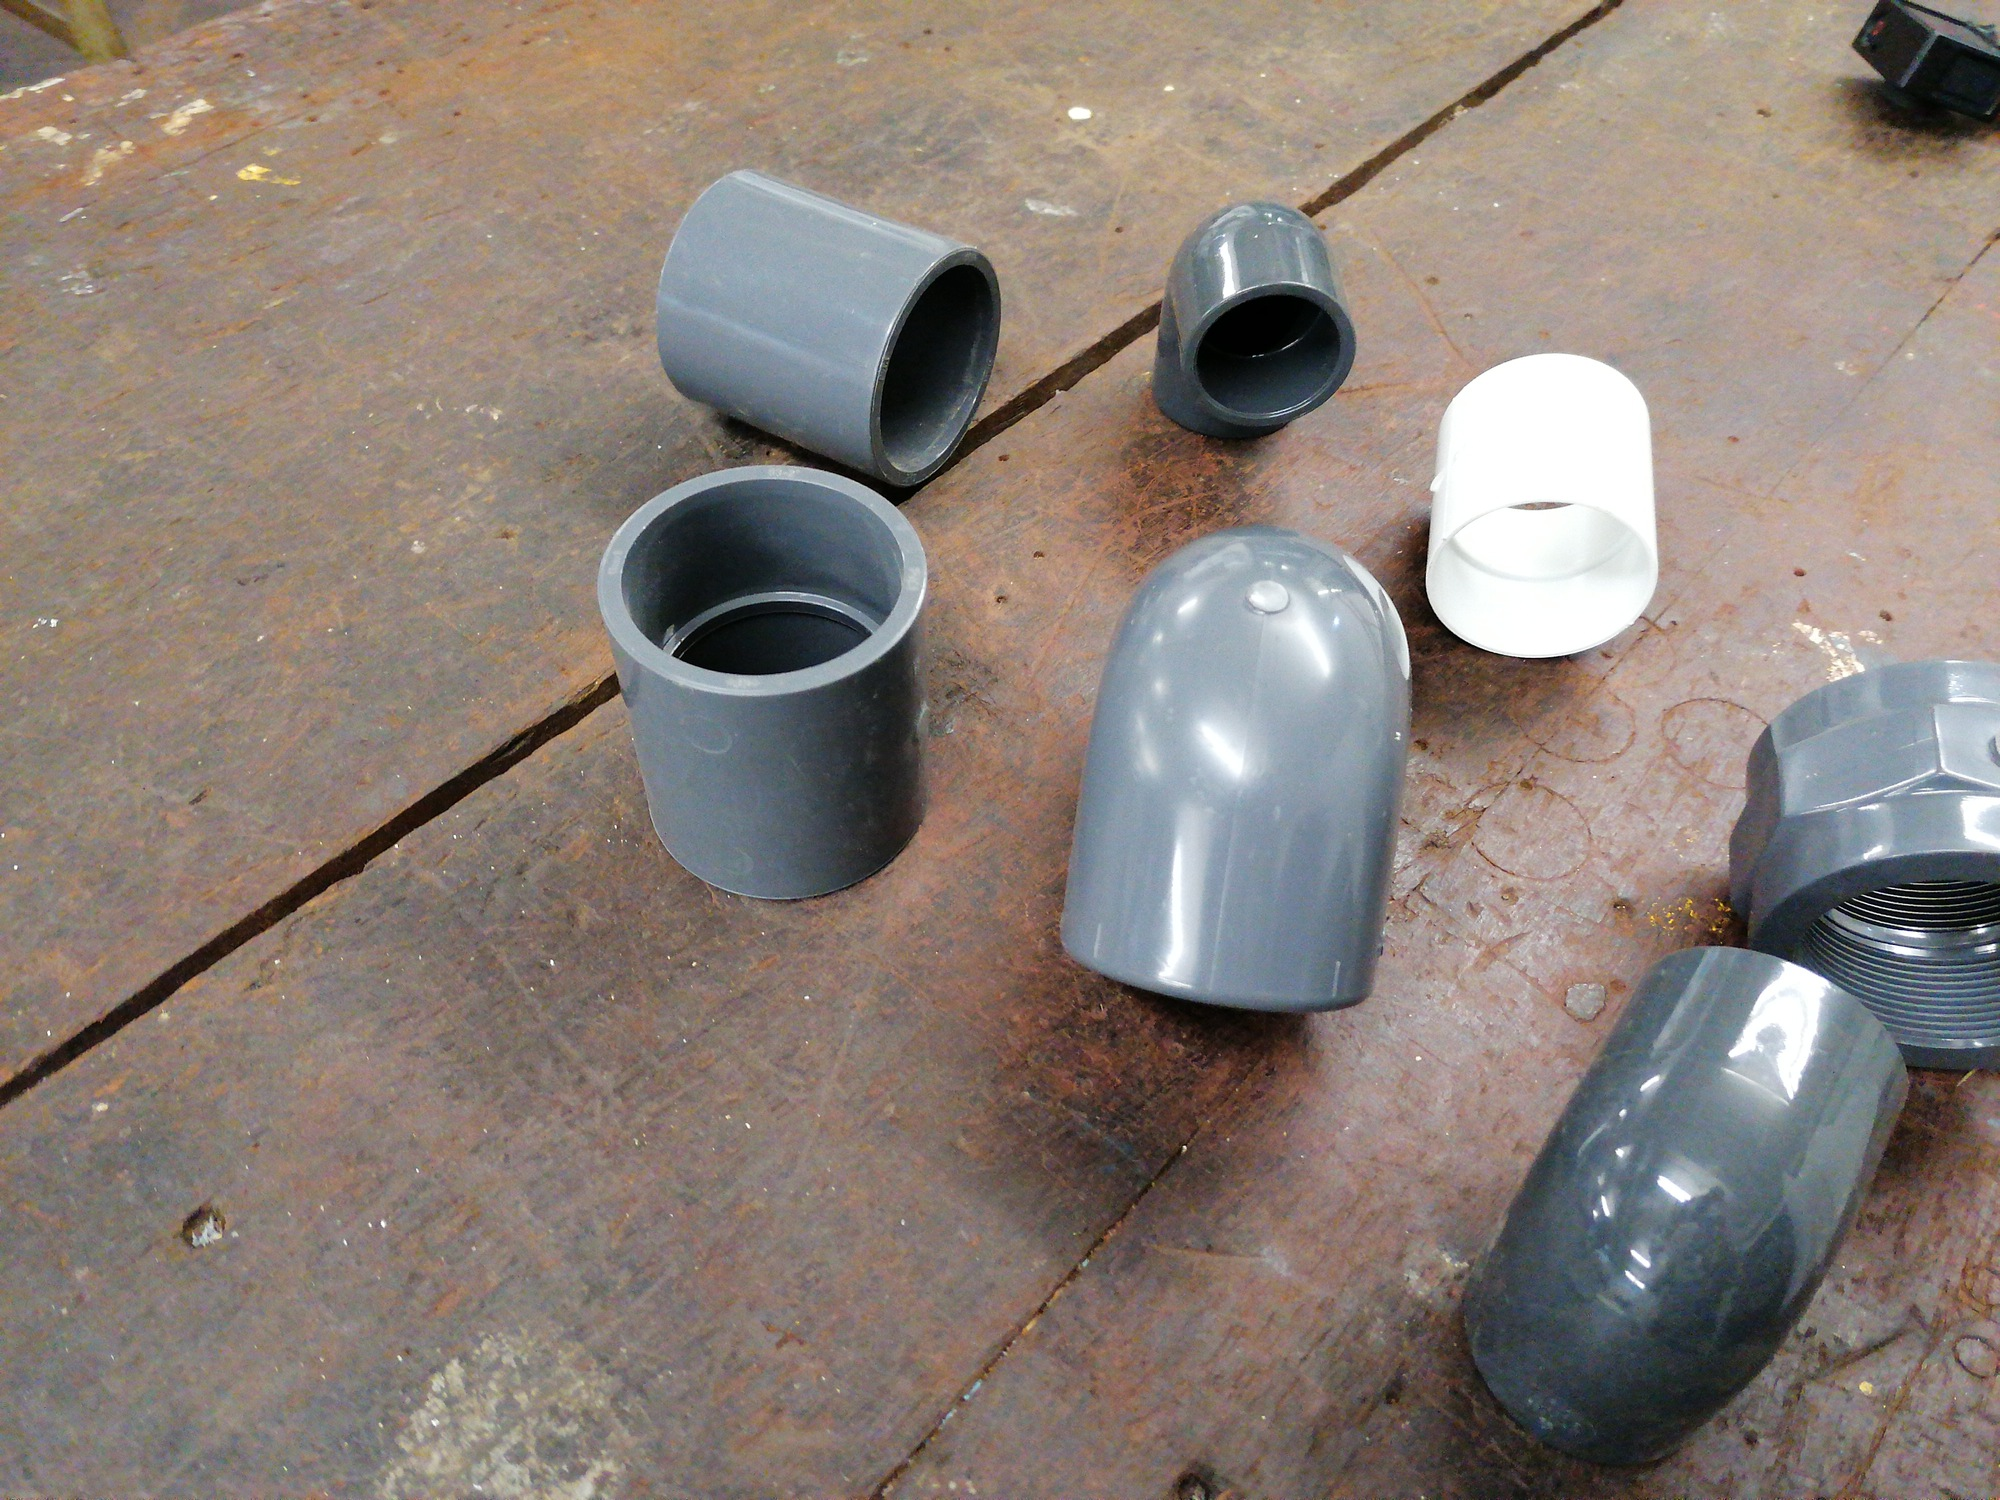bolt: (1424, 351, 1660, 662)
nut: (1724, 657, 1998, 1075)
pipe: (1458, 945, 1917, 1472), (1058, 518, 1414, 1015), (594, 460, 939, 901), (650, 172, 1009, 485), (1150, 194, 1362, 444)
